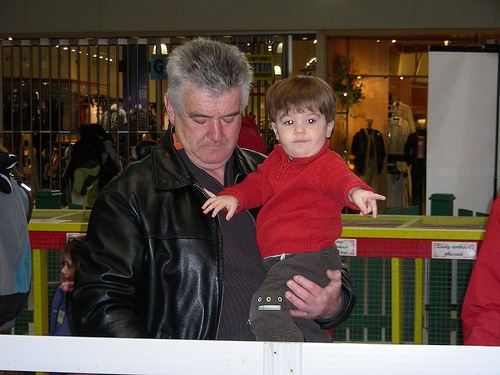head: (160, 34, 254, 175), (263, 76, 338, 157)
person: (68, 35, 272, 348), (219, 69, 380, 350), (47, 233, 83, 335)
